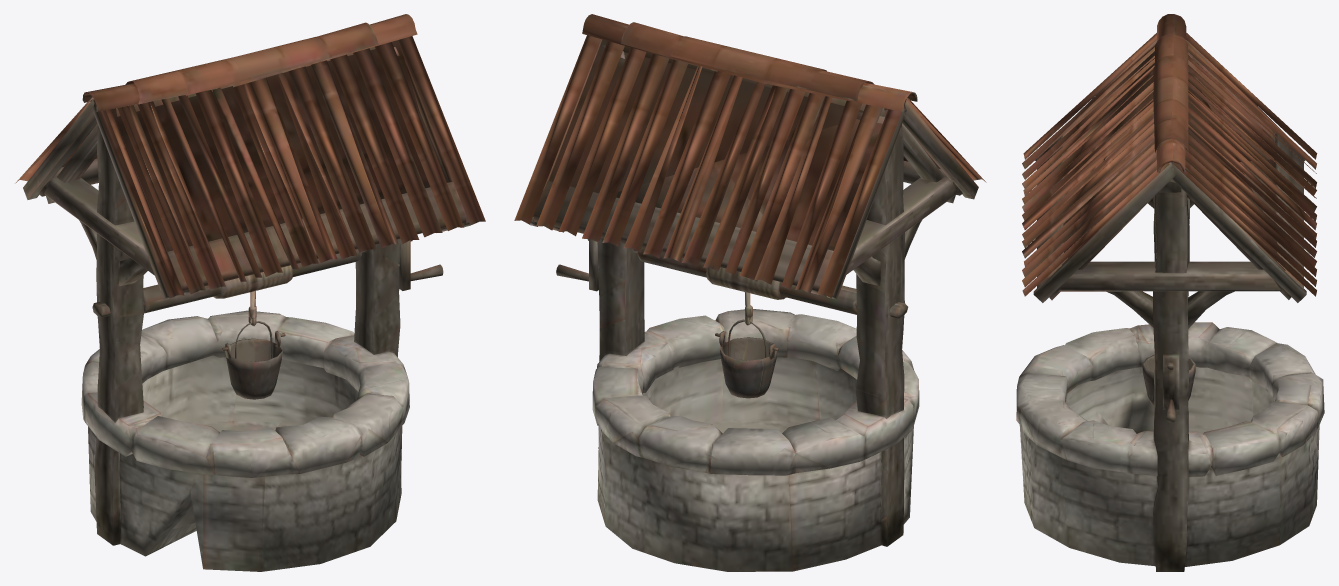
The model's file is well.glb.
3 renders of one model, left to right at view 1: azimuth 30°, elevation 25°; view 2: azimuth 150°, elevation 25°; view 3: azimuth 270°, elevation 25°, orthographic. The views are drawn at different scales.
Size of the model in its own units: 0.7725 by 0.9512 by 0.6299.
1 material, 1 textured.
